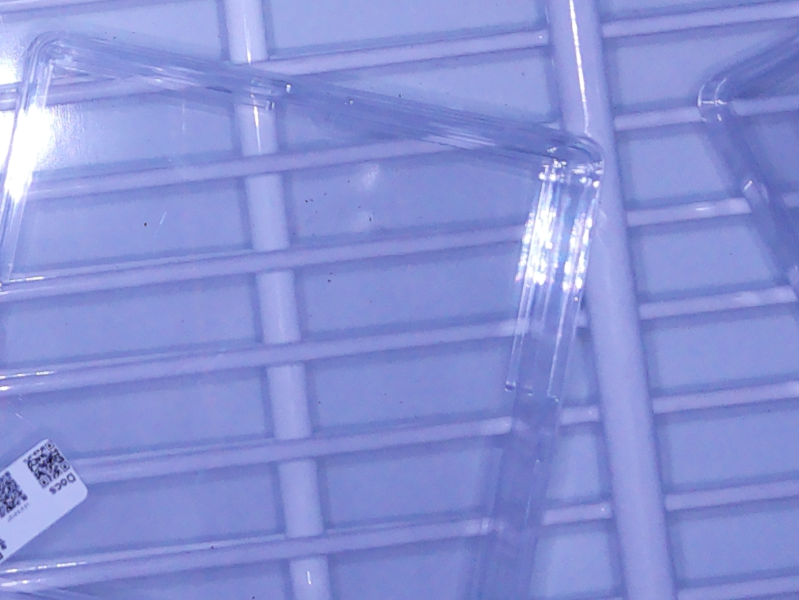plate: (1, 31, 611, 600), (694, 24, 799, 310)
